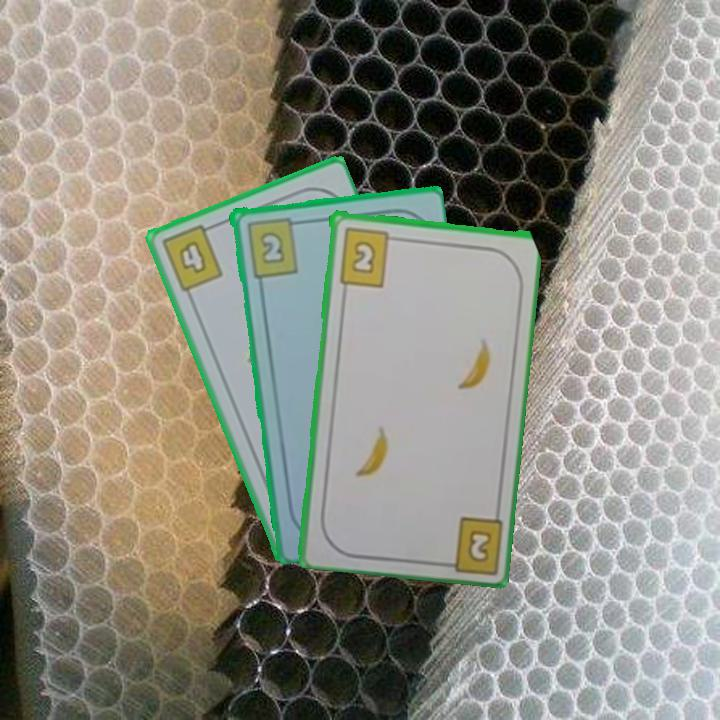2b: (335, 223, 401, 289), (242, 213, 304, 280), (463, 525, 495, 565)
4b: (157, 220, 226, 295)
